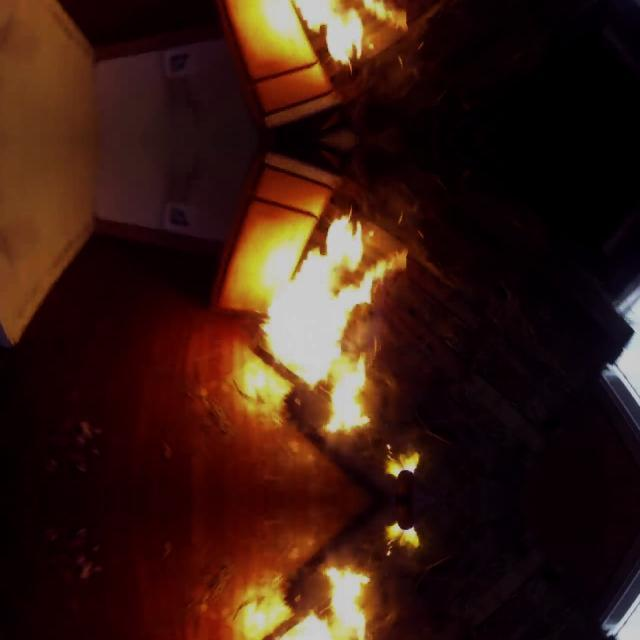smoke: (257, 204, 412, 436), (240, 0, 412, 80), (240, 563, 373, 640), (386, 444, 422, 478), (386, 522, 422, 556)
